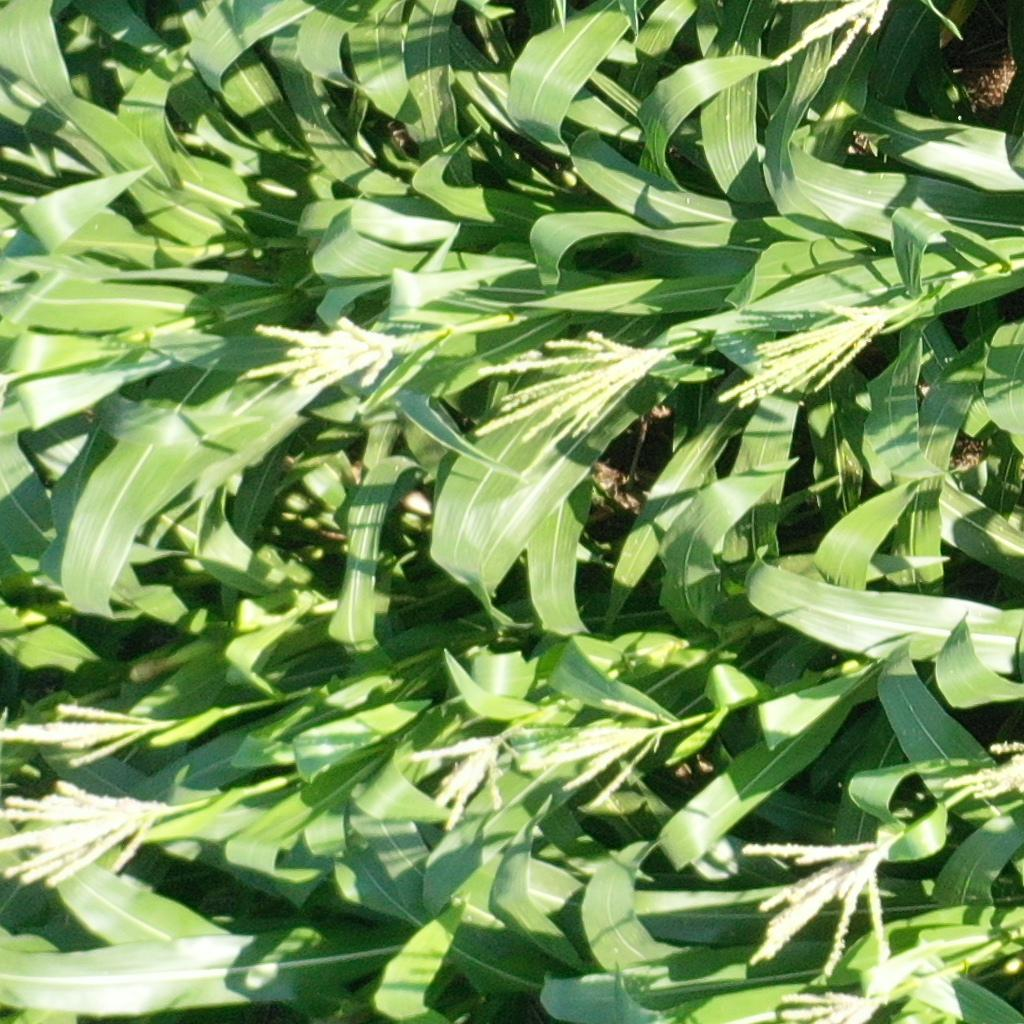Tassel: (734, 810, 900, 973), (474, 322, 677, 455), (710, 296, 907, 413), (1, 779, 177, 900), (236, 313, 416, 410), (521, 696, 672, 808), (414, 731, 525, 836), (1, 701, 164, 772), (770, 1, 894, 79), (923, 738, 1024, 805), (776, 988, 886, 1024)
